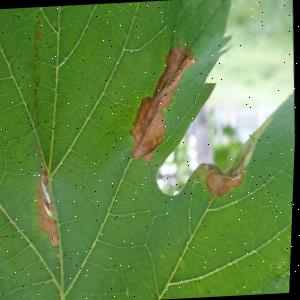Folha: (0, 0, 300, 300)
Fungo: (23, 10, 67, 250), (123, 36, 202, 166), (201, 133, 259, 198), (32, 160, 62, 248), (27, 10, 48, 119), (204, 164, 245, 198), (227, 134, 259, 177), (39, 171, 57, 220), (39, 172, 53, 205), (43, 199, 56, 220), (31, 88, 38, 116), (34, 32, 42, 40), (33, 77, 39, 87), (32, 40, 37, 51), (32, 105, 37, 115), (32, 62, 38, 70), (33, 89, 36, 96), (33, 52, 36, 58), (45, 118, 47, 122), (43, 126, 45, 130)
